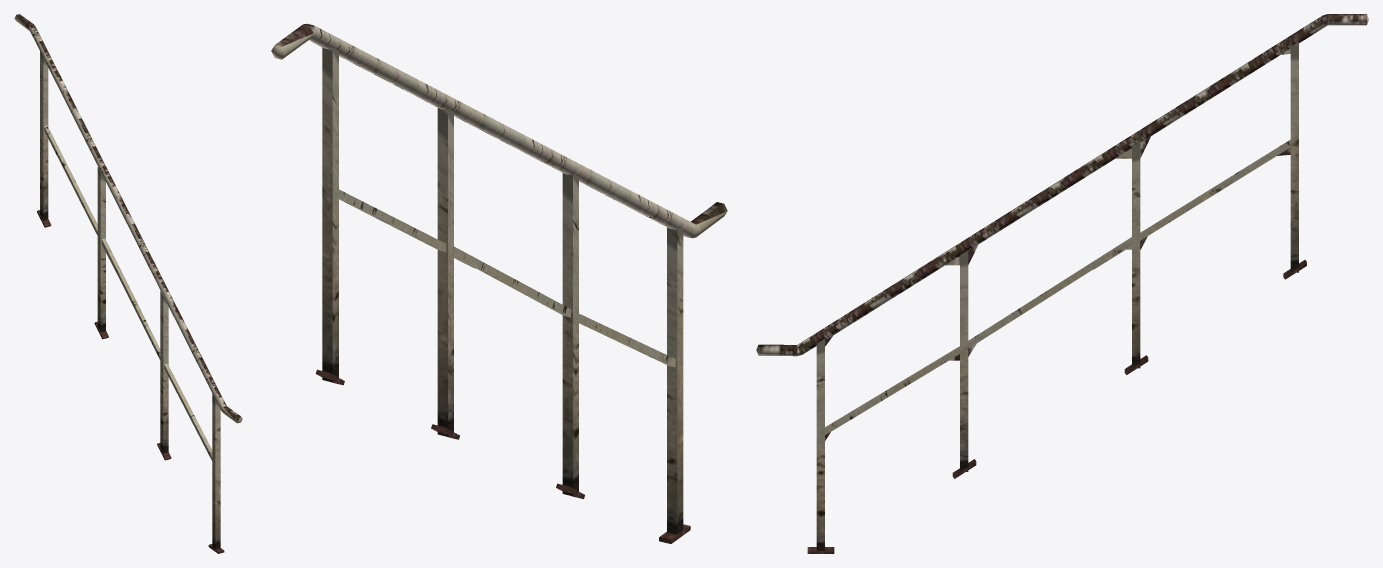
Rendered from Handrail04_SingleRise.glb.
3 renders of one model, left to right at view 1: azimuth 30°, elevation 25°; view 2: azimuth 150°, elevation 25°; view 3: azimuth 270°, elevation 25°, orthographic. The views are drawn at different scales.
Visible parts, largest first — view 1: 0_HandrailMetal001a; view 2: 0_HandrailMetal001a; view 3: 0_HandrailMetal001a.
Part boxes in pixels (bbox=[...]): 0_HandrailMetal001a: bbox=[14, 14, 242, 553]; 0_HandrailMetal001a: bbox=[271, 23, 727, 543]; 0_HandrailMetal001a: bbox=[756, 14, 1368, 553].
Bounding box in the file's own units: 0.0509 × 2.65 × 2.74.
1 material, 1 textured.
